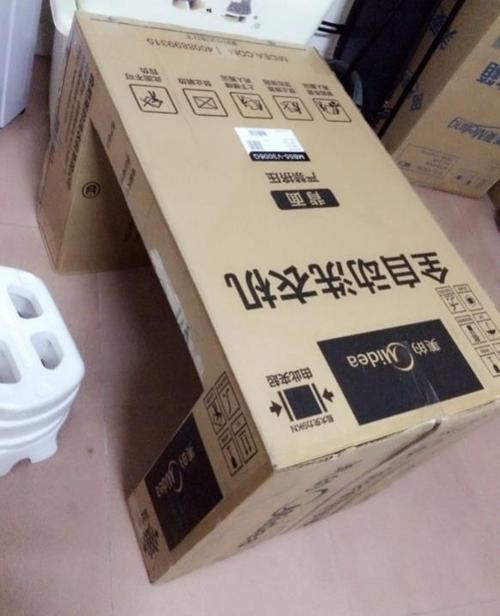cardboard: (0, 0, 499, 615), (381, 0, 499, 198)
